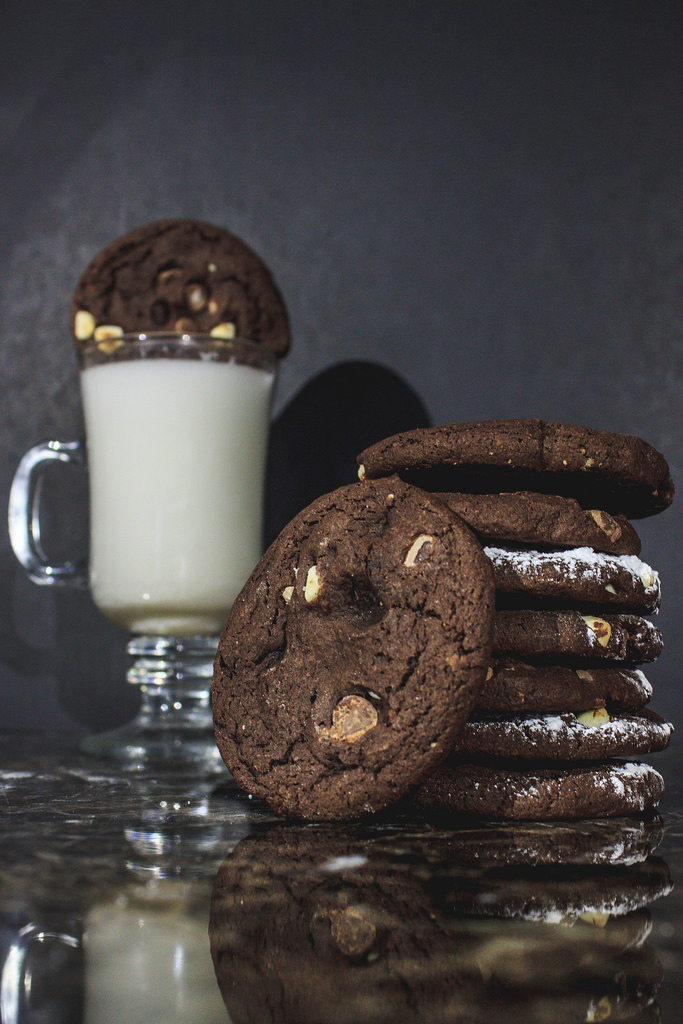glass of milk: (57, 335, 286, 788)
